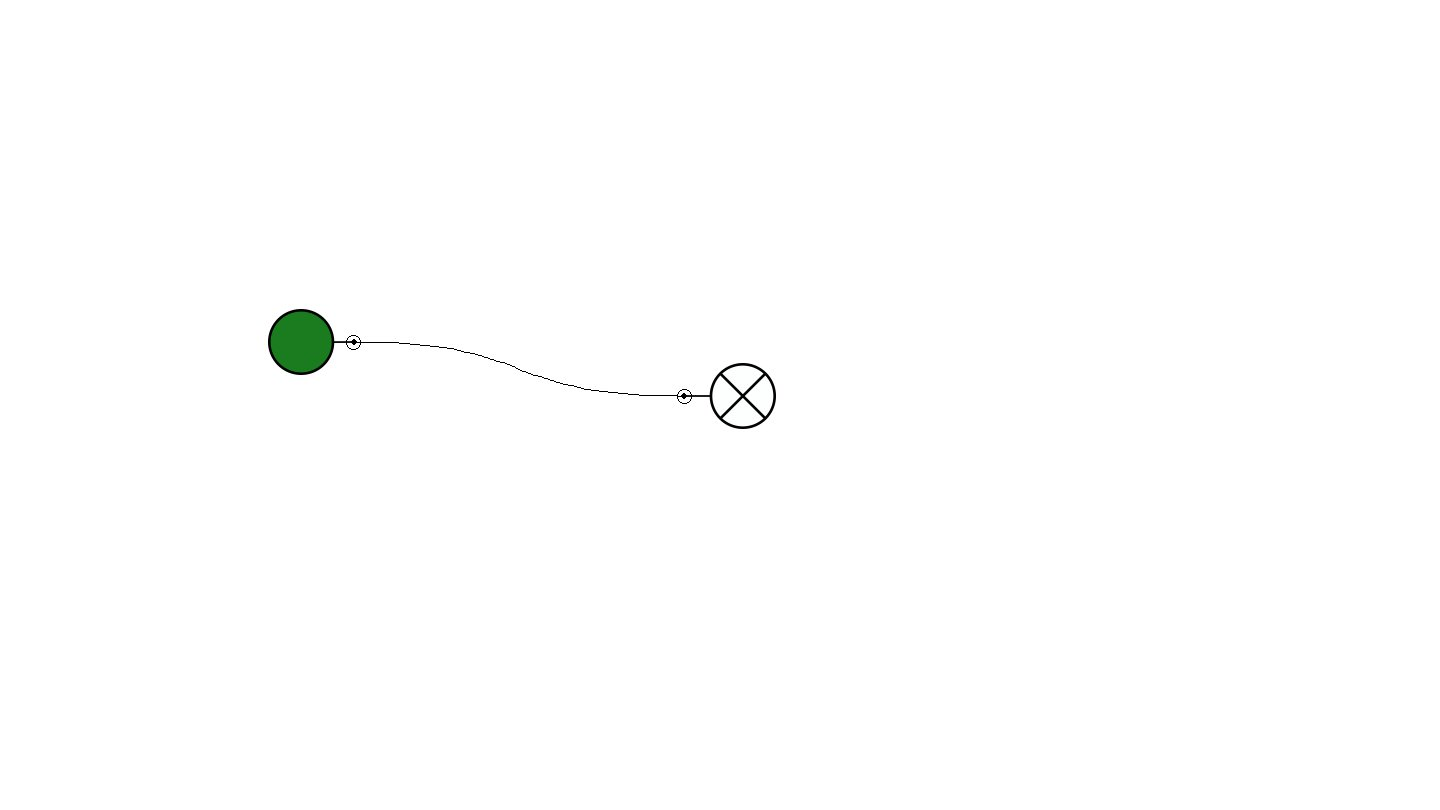bulb: (677, 363, 776, 429)
switch_True: (268, 309, 361, 375)
